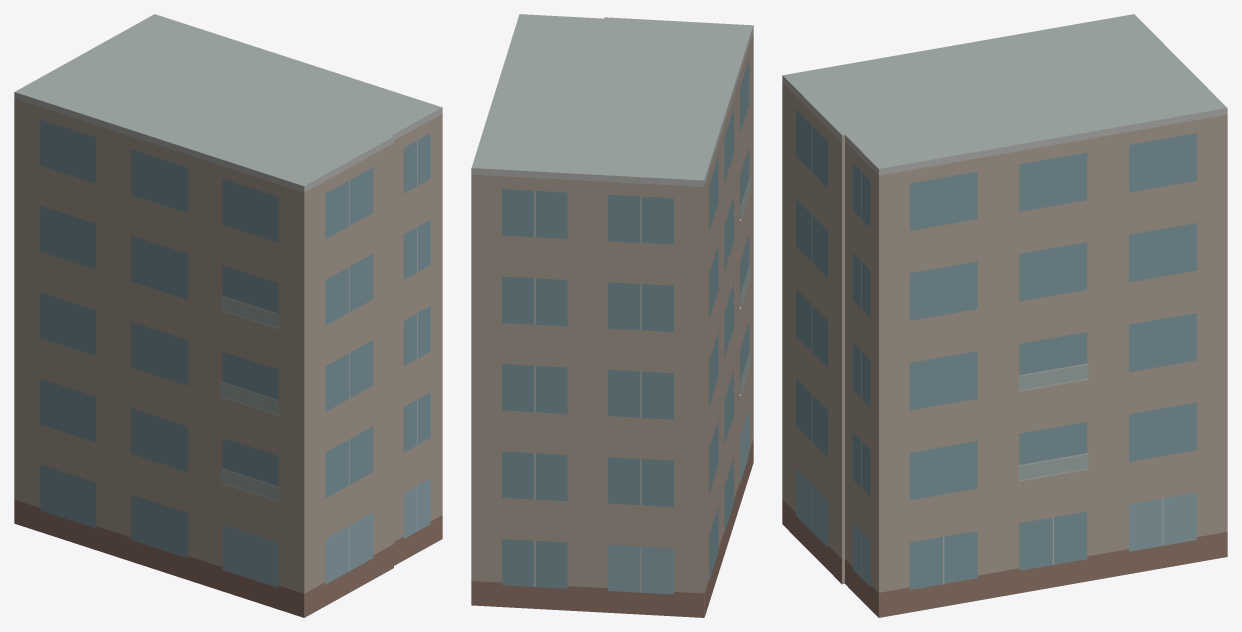
Rendered from survey-upis-32718222.glb.
The picture shows the model from 3 angles, left to right: view 1: azimuth 30°, elevation 25°; view 2: azimuth 150°, elevation 25°; view 3: azimuth 270°, elevation 25°; orthographic projection. The views are drawn at different scales.
Visible parts, largest first — view 1: survey-upis-32718222.tmp; view 2: survey-upis-32718222.tmp; view 3: survey-upis-32718222.tmp.
Boxes of the visible parts, x1=… form: survey-upis-32718222.tmp: x1=14, y1=14, x2=442, y2=617; survey-upis-32718222.tmp: x1=471, y1=14, x2=753, y2=617; survey-upis-32718222.tmp: x1=782, y1=14, x2=1227, y2=617.
Size of the model in its own units: 12.15 by 16.4 by 14.75.
